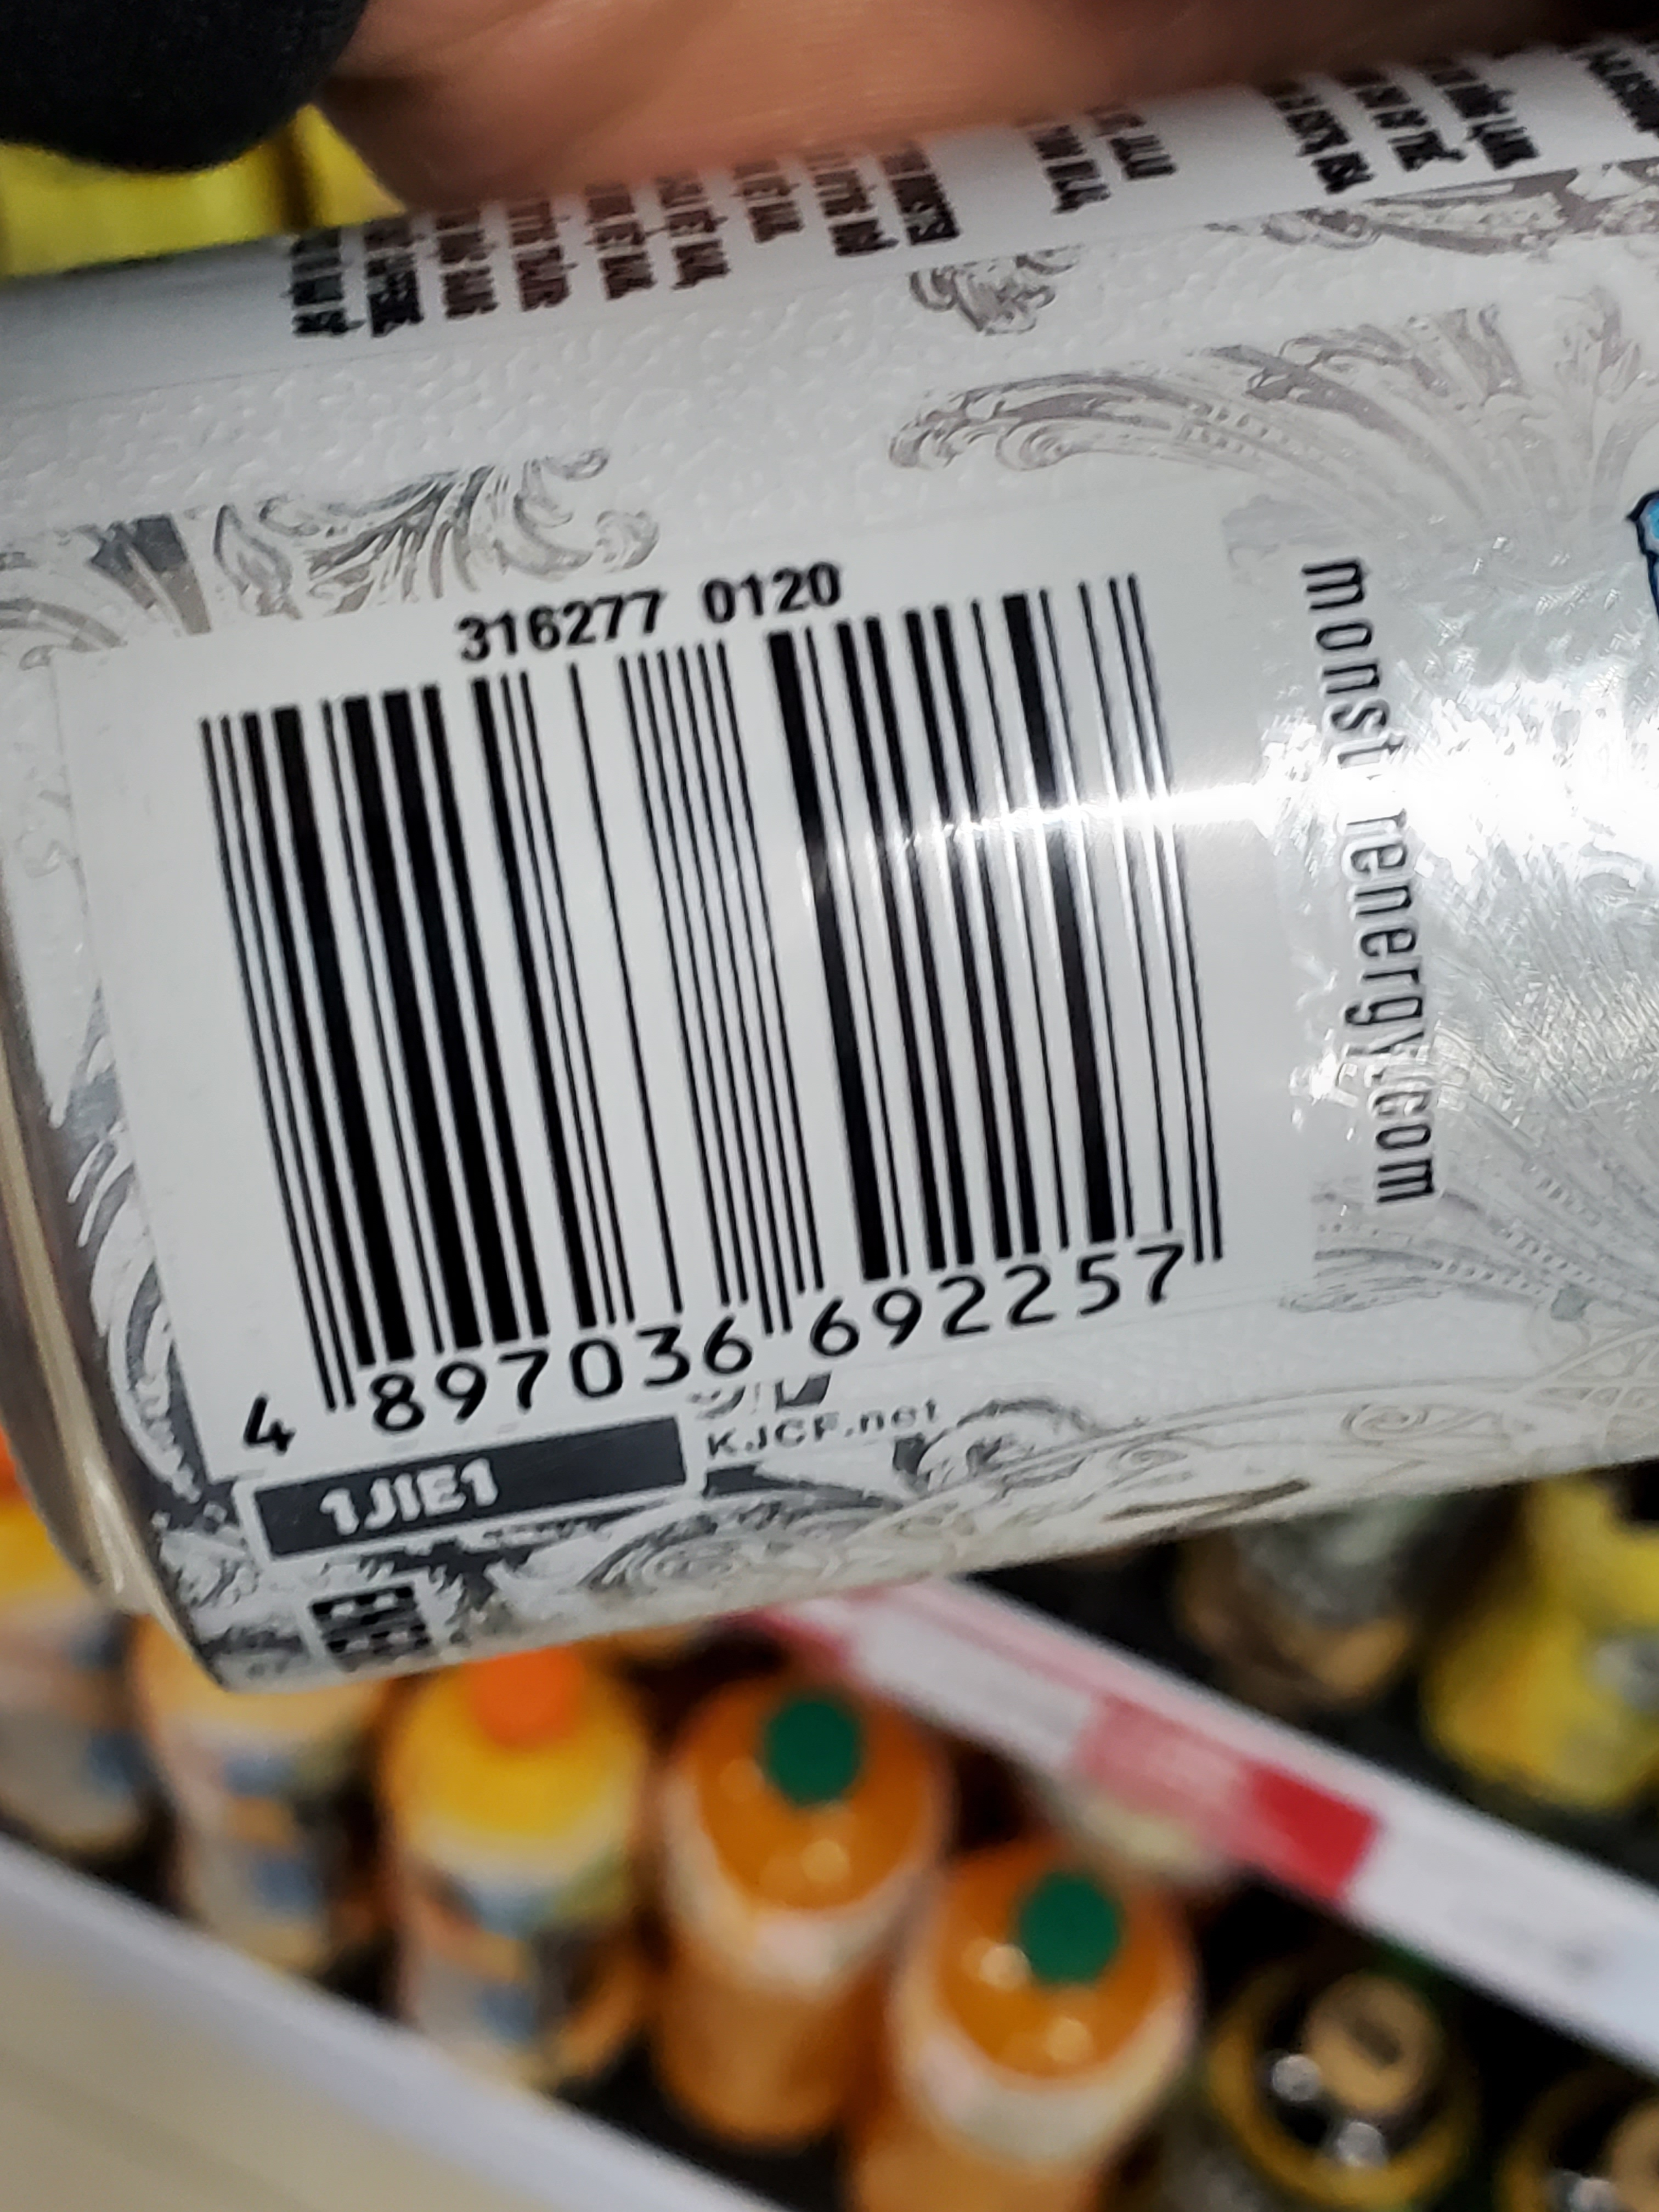barcode: (108, 529, 1281, 1487)
